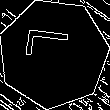L_E: (26, 35, 81, 72)
